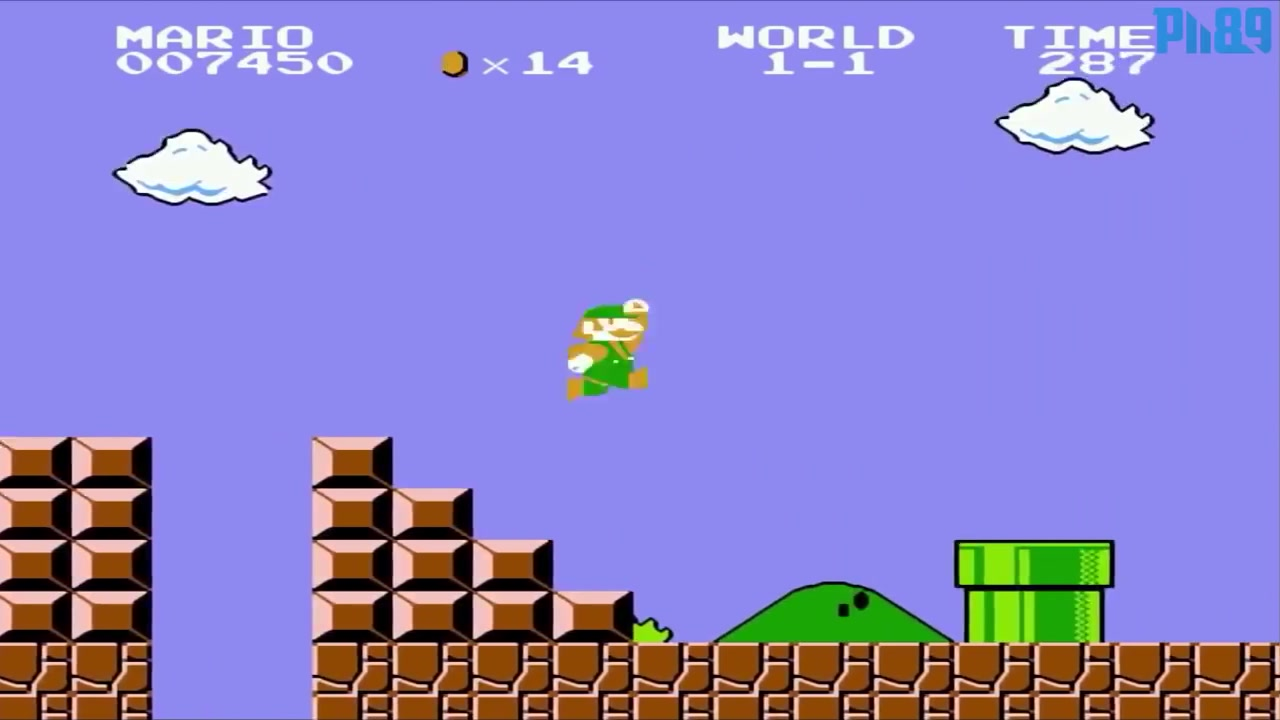mario: (569, 299, 662, 402)
